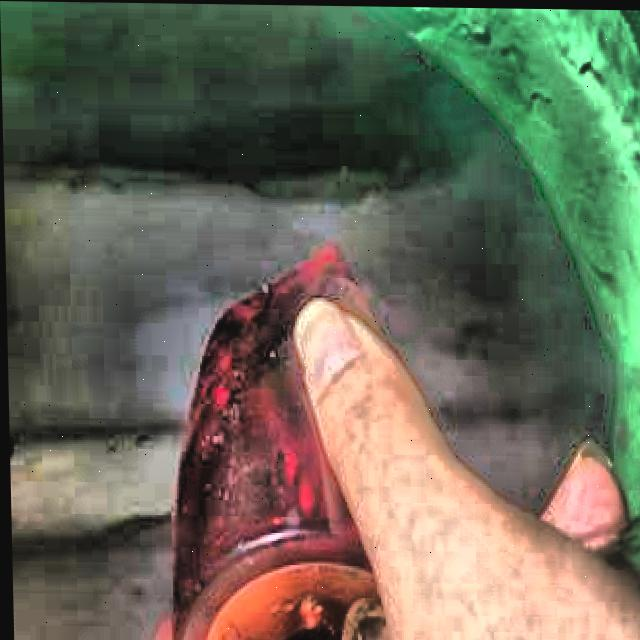glass: (172, 244, 376, 640)
